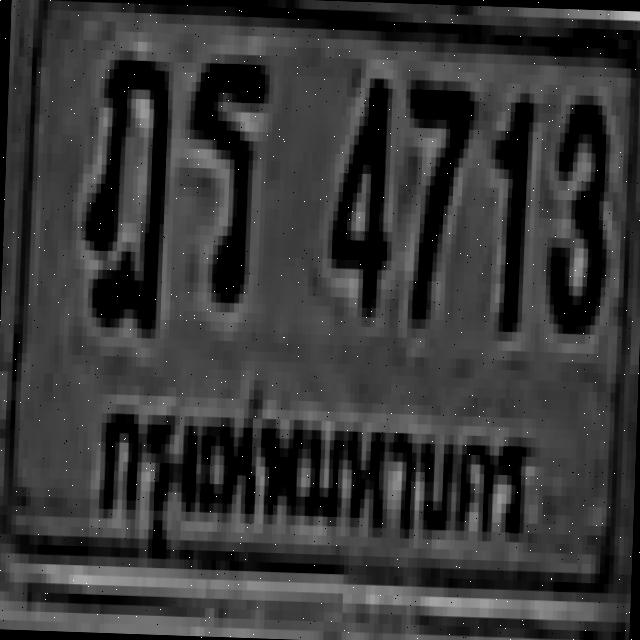1: (484, 87, 530, 327)
23DorChaDa: (78, 44, 170, 324)
3: (539, 84, 607, 326)
4: (325, 67, 388, 308)
44RorRuea: (179, 48, 265, 298)
7: (398, 70, 470, 320)
Bangkok: (87, 376, 544, 580)
